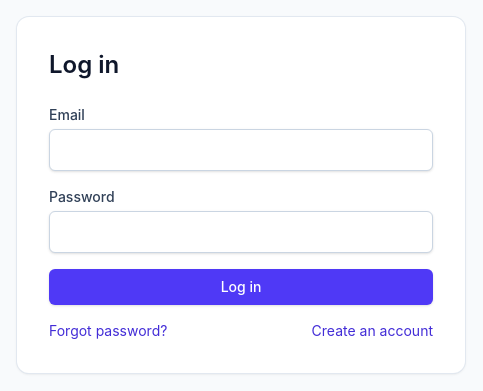
Test: LoginView › asks for the emailed code when 2FA is on
Type "user@example.com" into the field labelled "Email" at (241, 150), box [49, 129, 433, 171]
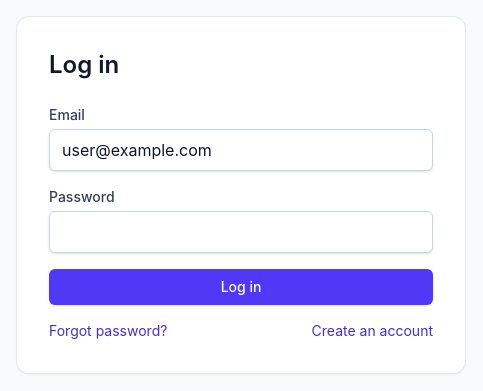
Type "pw" into the password field labelled "Password" at (241, 232), box [49, 211, 433, 253]
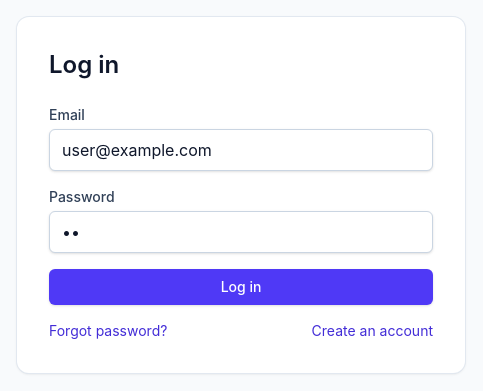
Submit the form, box [49, 105, 433, 341]
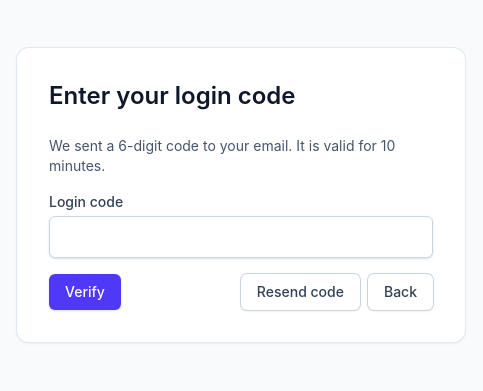
Expected: the text "Enter your login code" is shown, [49, 81, 296, 110]
Type "123456" into the field labelled "Login code" at (241, 237), box [49, 216, 433, 258]
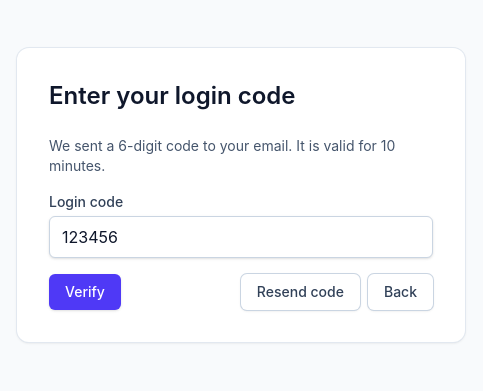
Submit the form, box [49, 136, 433, 310]
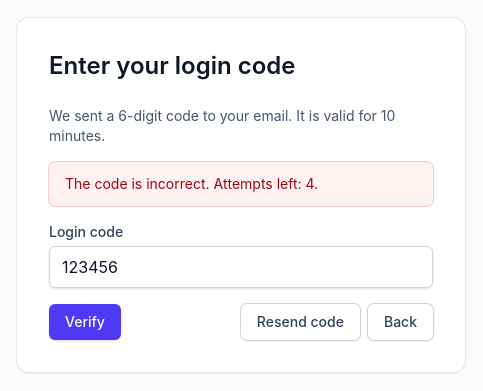
Expected: the message "The code is incorrect. Attempts left: 4." is shown, [49, 162, 433, 206]
